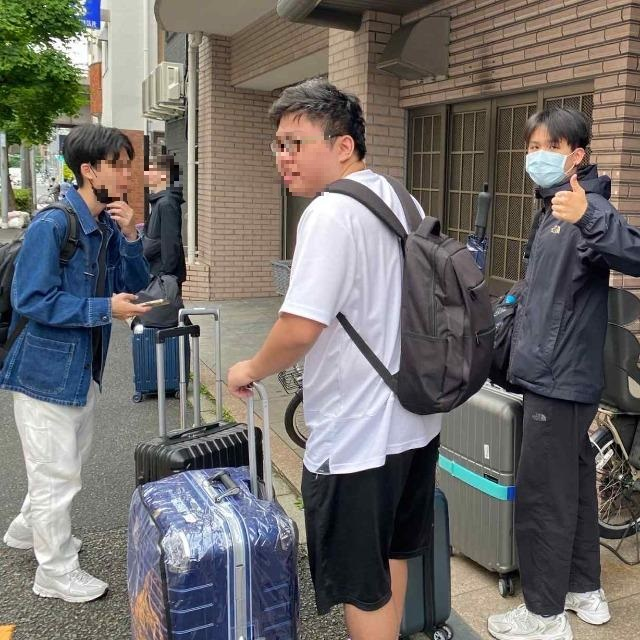NoHelmet: (263, 79, 369, 197), (514, 101, 589, 188), (60, 121, 134, 202)
